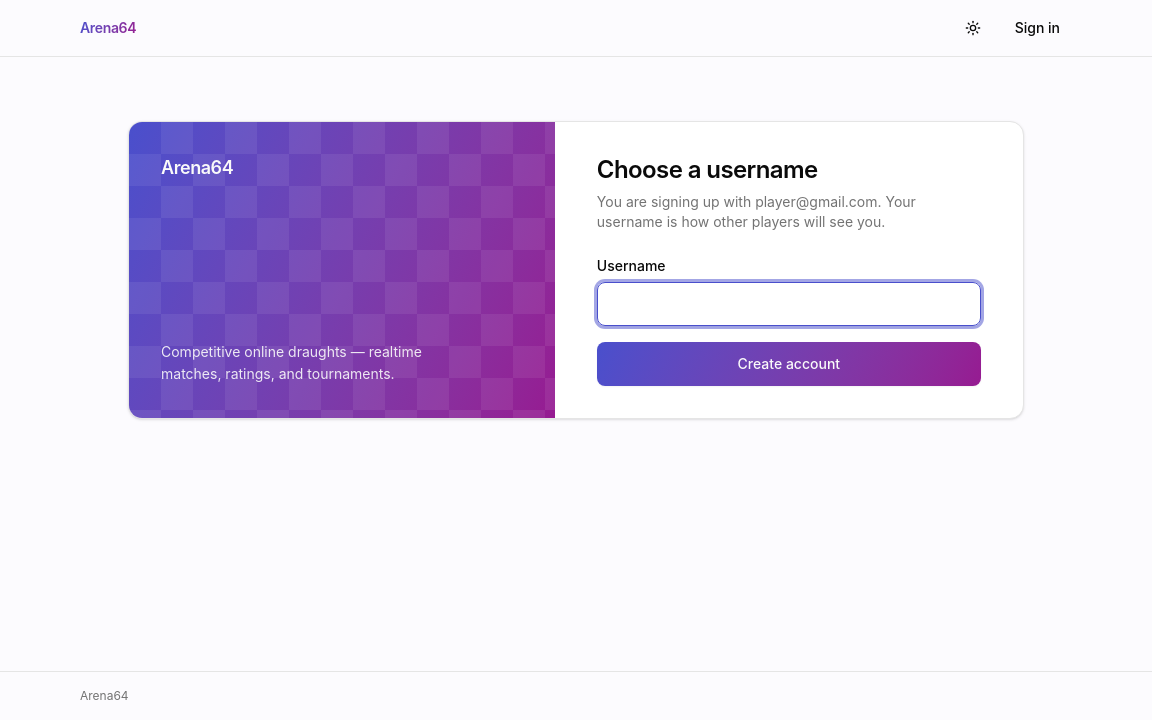
Test: choosing a username after Google › names a taken username and keeps the person on the page
This screenshot has width=1152, height=720.
Type "taken_name" into the field labelled "Username" at (789, 304), box left=597, top=282, right=981, bottom=326
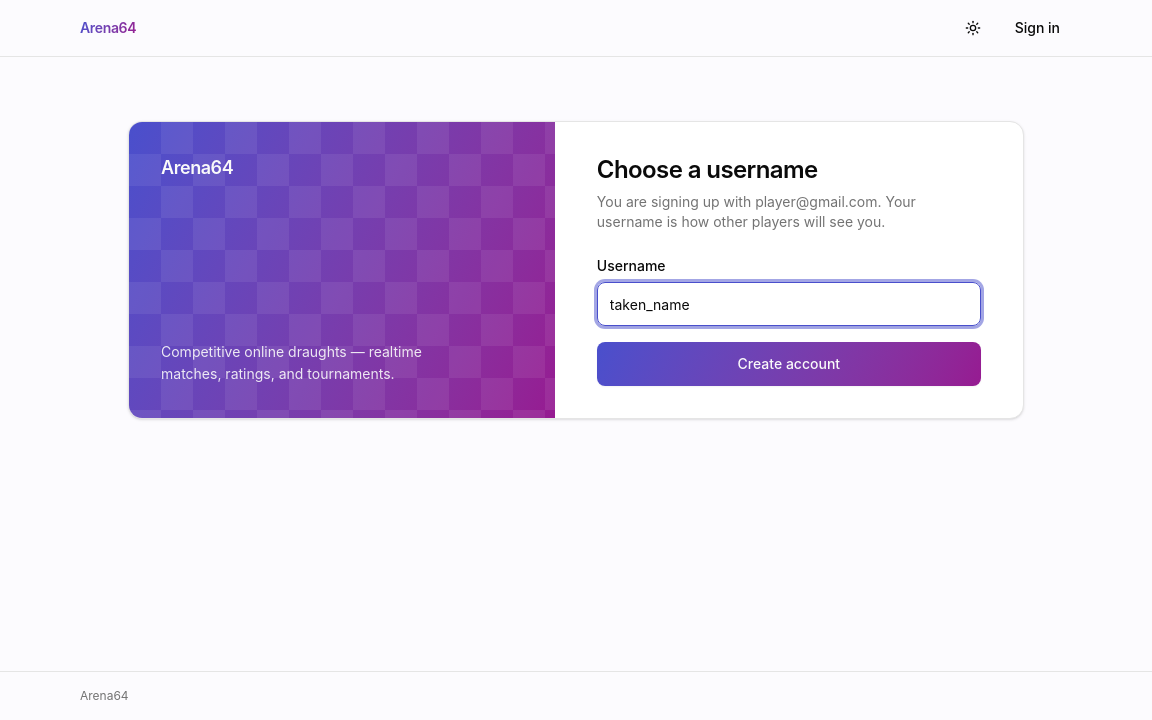
Click the button "Create account" at (789, 364), box left=597, top=342, right=981, bottom=386
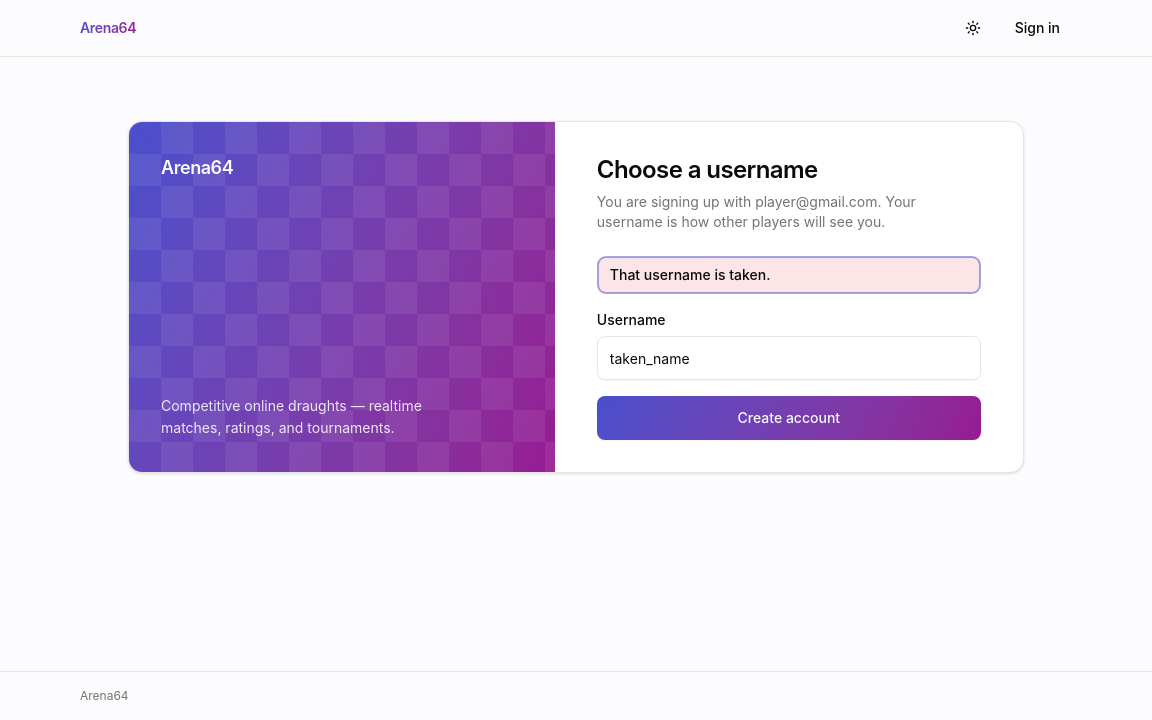
Expected: the message reads "That username is taken.", left=610, top=266, right=770, bottom=283
